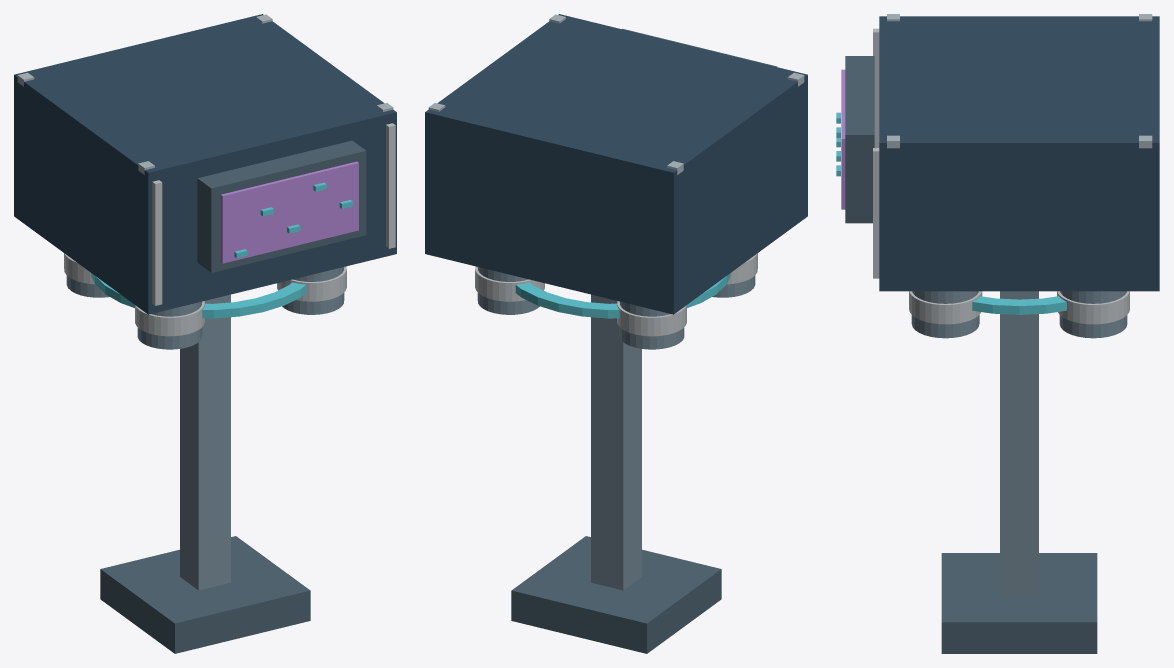
The model's file is 49_L74_OverlayAlignmentMetrologySystem.glb.
The picture shows the model from 3 angles, left to right: view 1: azimuth 30°, elevation 25°; view 2: azimuth 150°, elevation 25°; view 3: azimuth 270°, elevation 25°; orthographic projection. The views are drawn at different scales.
Parts seen in each view (by area): view 1: OverlayAlignmentMetrologySystem_Node_0003, OverlayAlignmentMetrologySystem_Node_0001, OverlayAlignmentMetrologySystem_Node_0000, OverlayAlignmentMetrologySystem_Node_0120, OverlayAlignmentMetrologySystem_Node_0119, OverlayAlignmentMetrologySystem_Node_0118, OverlayAlignmentMetrologySystem_Node_0065, OverlayAlignmentMetrologySystem_Node_0008, OverlayAlignmentMetrologySystem_Node_0064, OverlayAlignmentMetrologySystem_Node_0009, OverlayAlignmentMetrologySystem_Node_0037, OverlayAlignmentMetrologySystem_Node_0038; view 2: OverlayAlignmentMetrologySystem_Node_0003, OverlayAlignmentMetrologySystem_Node_0001, OverlayAlignmentMetrologySystem_Node_0000, OverlayAlignmentMetrologySystem_Node_0118, OverlayAlignmentMetrologySystem_Node_0011, OverlayAlignmentMetrologySystem_Node_0010, OverlayAlignmentMetrologySystem_Node_0091, OverlayAlignmentMetrologySystem_Node_0092; view 3: OverlayAlignmentMetrologySystem_Node_0003, OverlayAlignmentMetrologySystem_Node_0001, OverlayAlignmentMetrologySystem_Node_0000, OverlayAlignmentMetrologySystem_Node_0119, OverlayAlignmentMetrologySystem_Node_0091, OverlayAlignmentMetrologySystem_Node_0037, OverlayAlignmentMetrologySystem_Node_0038, OverlayAlignmentMetrologySystem_Node_0118, OverlayAlignmentMetrologySystem_Node_0092, OverlayAlignmentMetrologySystem_Node_0009, OverlayAlignmentMetrologySystem_Node_0008, OverlayAlignmentMetrologySystem_Node_0120.
Part boxes in pixels (box(x1,y1,x2,y2)): OverlayAlignmentMetrologySystem_Node_0003: box(14, 14, 396, 314); OverlayAlignmentMetrologySystem_Node_0001: box(100, 536, 310, 653); OverlayAlignmentMetrologySystem_Node_0000: box(180, 294, 230, 590); OverlayAlignmentMetrologySystem_Node_0120: box(220, 161, 358, 263); OverlayAlignmentMetrologySystem_Node_0119: box(197, 140, 366, 272); OverlayAlignmentMetrologySystem_Node_0118: box(91, 273, 306, 318); OverlayAlignmentMetrologySystem_Node_0065: box(135, 301, 204, 336); OverlayAlignmentMetrologySystem_Node_0008: box(152, 180, 162, 305); OverlayAlignmentMetrologySystem_Node_0064: box(137, 301, 202, 349); OverlayAlignmentMetrologySystem_Node_0009: box(386, 123, 395, 248); OverlayAlignmentMetrologySystem_Node_0037: box(282, 267, 344, 314); OverlayAlignmentMetrologySystem_Node_0038: box(277, 266, 346, 301); OverlayAlignmentMetrologySystem_Node_0003: box(425, 14, 807, 314); OverlayAlignmentMetrologySystem_Node_0001: box(511, 536, 721, 653); OverlayAlignmentMetrologySystem_Node_0000: box(591, 294, 641, 590); OverlayAlignmentMetrologySystem_Node_0118: box(515, 273, 730, 318); OverlayAlignmentMetrologySystem_Node_0011: box(617, 301, 686, 336); OverlayAlignmentMetrologySystem_Node_0010: box(619, 301, 684, 349); OverlayAlignmentMetrologySystem_Node_0091: box(477, 267, 539, 314); OverlayAlignmentMetrologySystem_Node_0092: box(475, 266, 544, 301); OverlayAlignmentMetrologySystem_Node_0003: box(879, 16, 1159, 291); OverlayAlignmentMetrologySystem_Node_0001: box(941, 553, 1097, 653); OverlayAlignmentMetrologySystem_Node_0000: box(1000, 291, 1038, 595); OverlayAlignmentMetrologySystem_Node_0119: box(845, 56, 874, 223); OverlayAlignmentMetrologySystem_Node_0091: box(1059, 291, 1127, 338); OverlayAlignmentMetrologySystem_Node_0037: box(911, 291, 979, 338); OverlayAlignmentMetrologySystem_Node_0038: box(909, 291, 982, 324); OverlayAlignmentMetrologySystem_Node_0118: box(972, 296, 1066, 314); OverlayAlignmentMetrologySystem_Node_0092: box(1057, 291, 1129, 324); OverlayAlignmentMetrologySystem_Node_0009: box(873, 148, 879, 278); OverlayAlignmentMetrologySystem_Node_0008: box(873, 28, 879, 147); OverlayAlignmentMetrologySystem_Node_0120: box(841, 69, 845, 209).
Bounding box in the file's own units: 0.7712 × 1.54 × 0.831.
